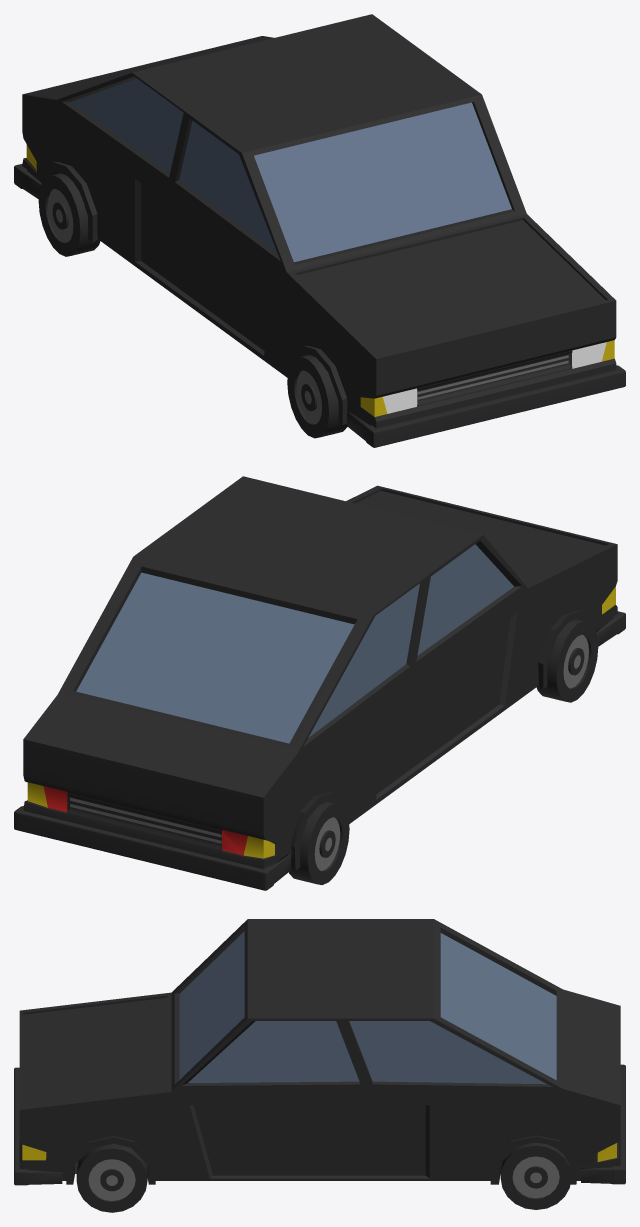
Rendered from Car_Black.fbx.
3 renders of one model, top to bottom at view 1: azimuth 30°, elevation 25°; view 2: azimuth 150°, elevation 25°; view 3: azimuth 270°, elevation 25°, orthographic. The views are drawn at different scales.
Visible parts, largest first — view 1: Car_Black; view 2: Car_Black; view 3: Car_Black.
Part boxes in pixels (x1=…): Car_Black: x1=14, y1=14, x2=625, y2=447; Car_Black: x1=14, y1=476, x2=625, y2=890; Car_Black: x1=14, y1=919, x2=625, y2=1212.
Size of the model in its own units: 2.22 by 1.75 by 5.16.
